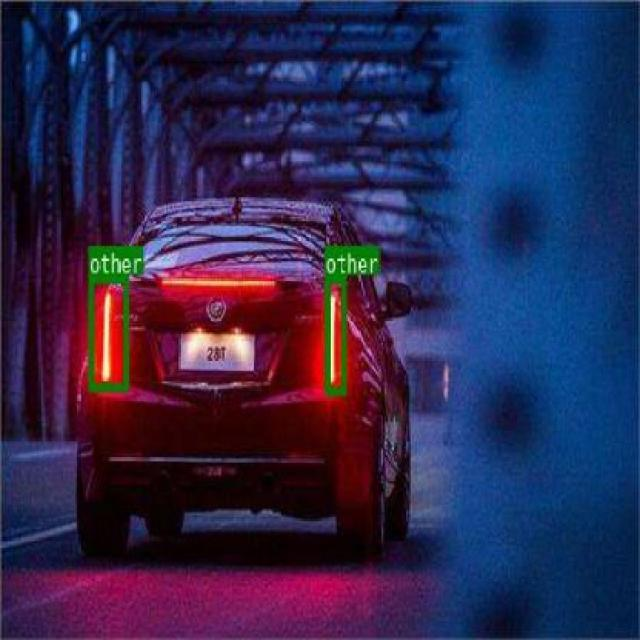other: (88, 273, 128, 389), (324, 273, 346, 393)
